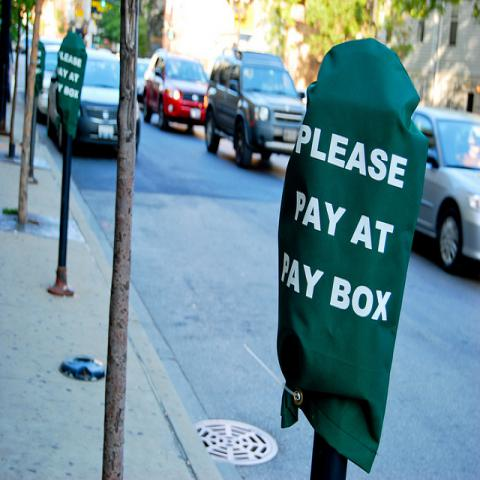car: (204, 50, 306, 167), (413, 110, 480, 266), (75, 49, 124, 158), (141, 48, 206, 128), (36, 44, 61, 125), (113, 53, 149, 94)
